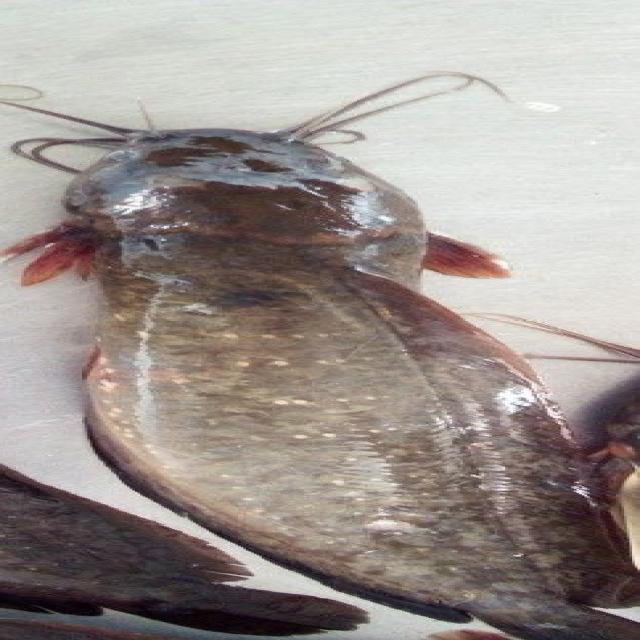Catfish: (17, 53, 640, 640)
